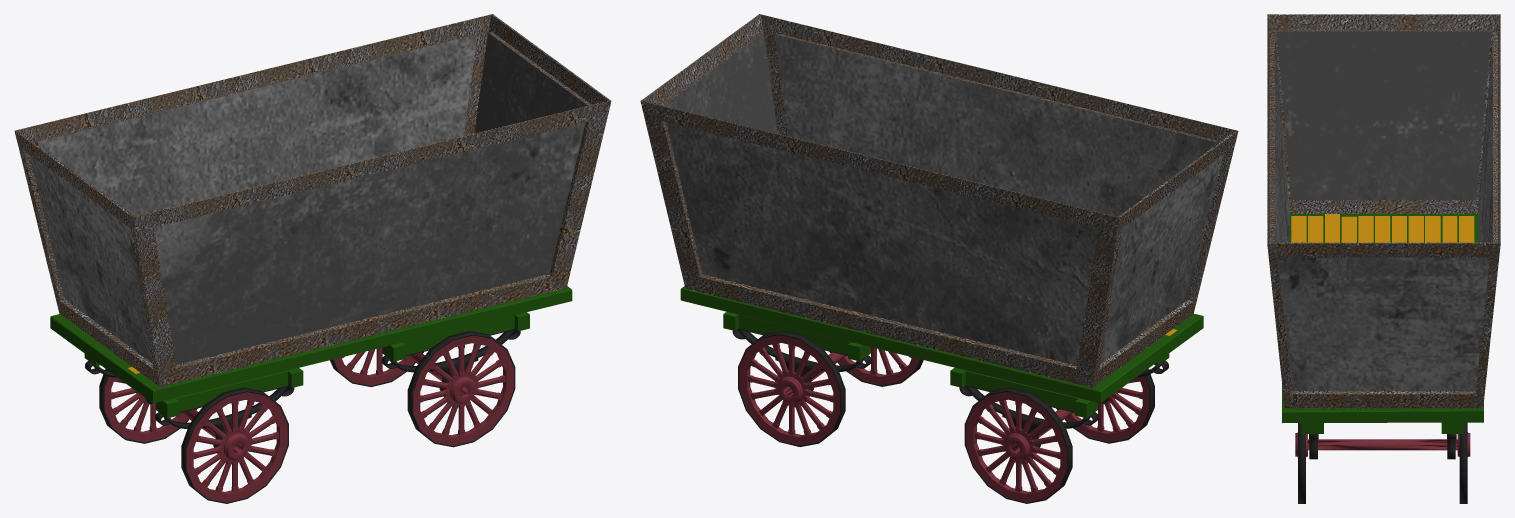
3 views of the same model, side by side, from view 1: azimuth 30°, elevation 25°; view 2: azimuth 150°, elevation 25°; view 3: azimuth 270°, elevation 25° (orthographic).
Parts seen in each view (by area): view 1: trolly; view 2: trolly; view 3: trolly.
Part boxes in pixels (x1=…): trolly: x1=14, y1=14, x2=611, y2=503; trolly: x1=640, y1=14, x2=1238, y2=503; trolly: x1=1267, y1=14, x2=1500, y2=503.
Size of the model in its own units: 19.06 by 12.37 by 8.2.
Materials: 6 (2 with a texture image).
